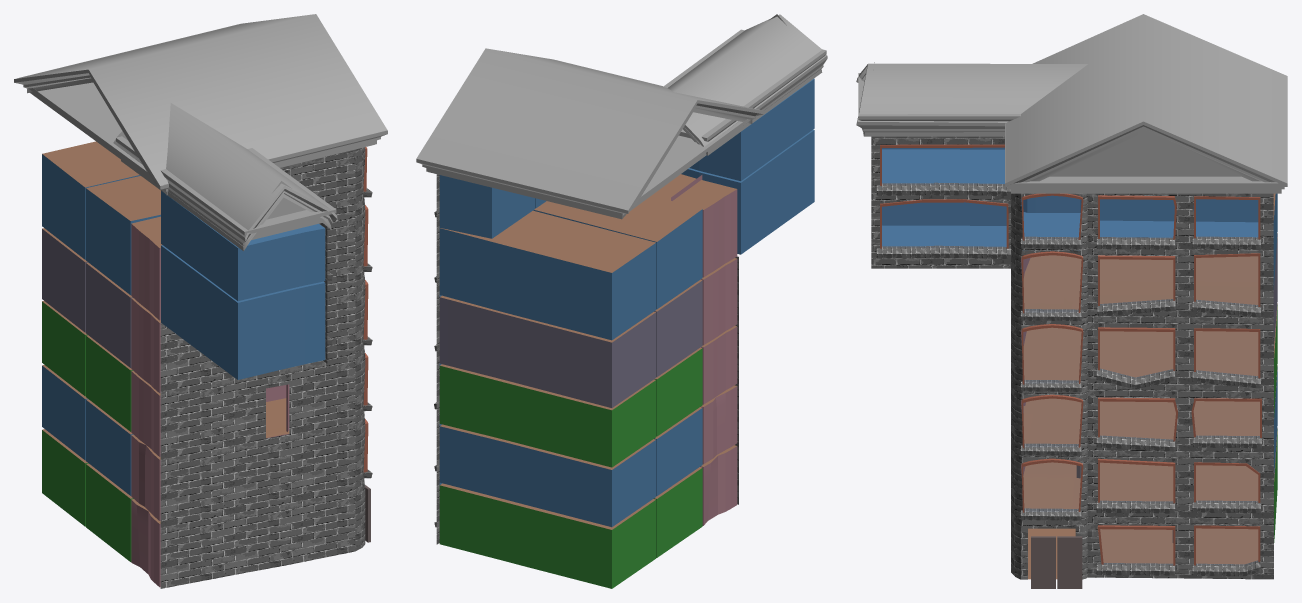
Rendered from Main Building.fbx.
3 views of the same model, side by side, from view 1: azimuth 30°, elevation 25°; view 2: azimuth 150°, elevation 25°; view 3: azimuth 270°, elevation 25° (orthographic). The views are drawn at different scales.
Visible parts, largest first — view 1: polySurface1532; view 2: polySurface1532; view 3: polySurface1532.
Part boxes in pixels (x1,y1,x2,y2): polySurface1532: (14, 14, 387, 588); polySurface1532: (416, 14, 827, 588); polySurface1532: (856, 14, 1287, 588).
Size of the model in its own units: 51.12 by 104 by 86.71.
